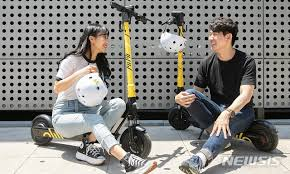kick_handler: (110, 2, 148, 24), (162, 11, 186, 24)
kick_neck: (121, 24, 136, 93), (176, 27, 184, 85)
kick_wheel: (30, 114, 51, 144), (168, 107, 189, 132)
